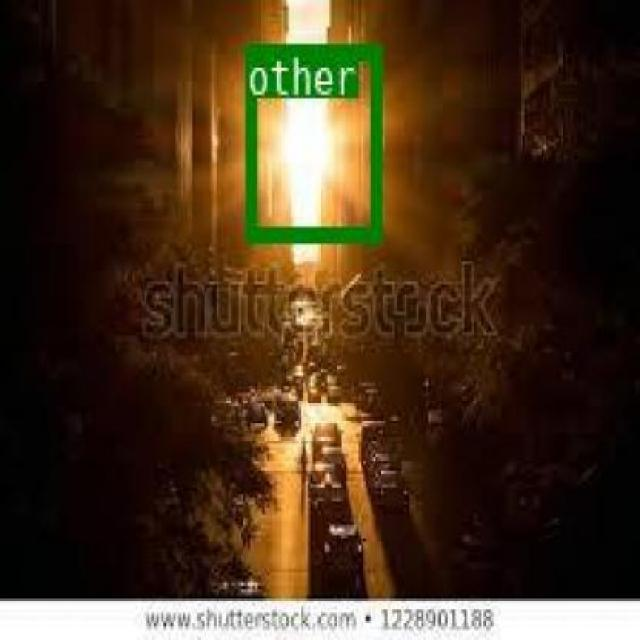other: (244, 41, 378, 240)
